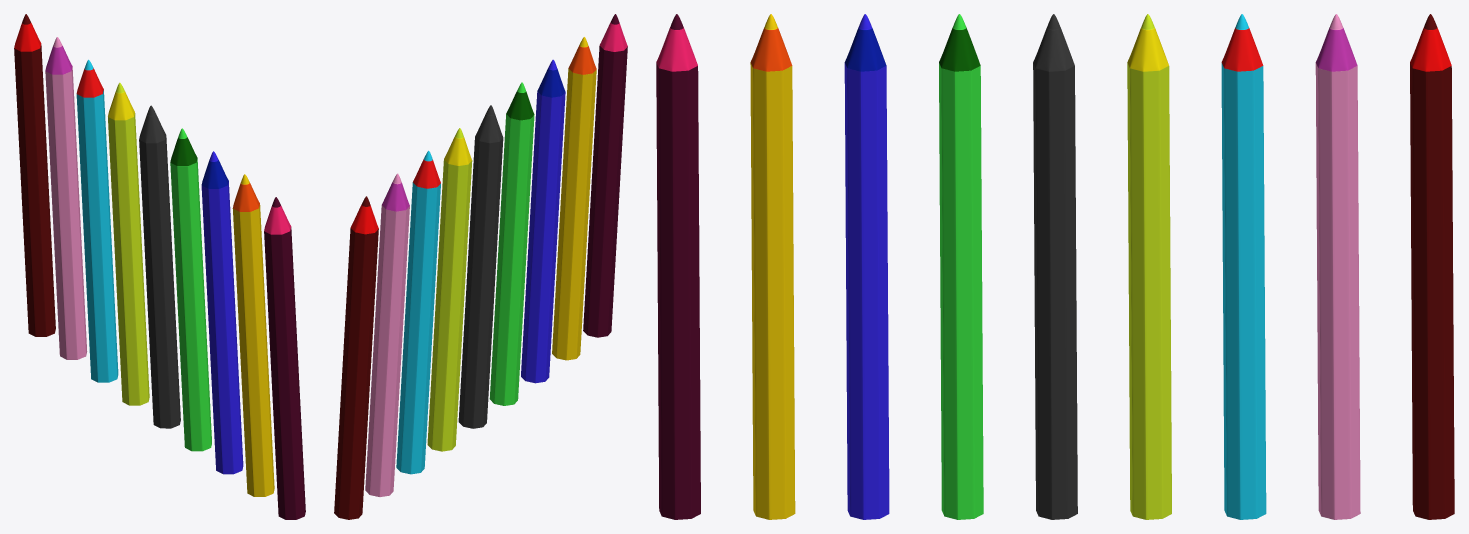
The model's file is lapices.FBX.
The picture shows the model from 3 angles, left to right: view 1: azimuth 30°, elevation 25°; view 2: azimuth 150°, elevation 25°; view 3: azimuth 270°, elevation 25°; orthographic projection. The views are drawn at different scales.
Parts seen in each view (by area): view 1: Pencil_red_013, Pencil_red_011, Pencil_red_019, Pencil_red_010, Pencil_red_008, Pencil_red_012, Pencil_red_014, Pencil_red_009, Pencil_red_015; view 2: Pencil_red_015, Pencil_red_011, Pencil_red_013, Pencil_red_019, Pencil_red_014, Pencil_red_009, Pencil_red_008, Pencil_red_010, Pencil_red_012; view 3: Pencil_red_012, Pencil_red_019, Pencil_red_008, Pencil_red_011, Pencil_red_013, Pencil_red_015, Pencil_red_010, Pencil_red_009, Pencil_red_014.
Part boxes in pixels (x1,y1,x2,y2): Pencil_red_013: (170,128,211,451); Pencil_red_011: (108,82,149,405); Pencil_red_019: (264,197,305,519); Pencil_red_010: (76,59,118,382); Pencil_red_008: (14,14,55,336); Pencil_red_012: (139,105,180,428); Pencil_red_014: (201,151,243,474); Pencil_red_009: (45,37,87,359); Pencil_red_015: (232,174,274,496); Pencil_red_015: (552,37,596,360); Pencil_red_011: (427,128,472,451); Pencil_red_013: (489,82,534,405); Pencil_red_019: (583,14,627,337); Pencil_red_014: (521,59,565,383); Pencil_red_009: (365,173,409,496); Pencil_red_008: (334,196,378,519); Pencil_red_010: (396,150,440,474); Pencil_red_012: (458,105,503,428); Pencil_red_012: (1033,14,1077,519); Pencil_red_019: (656,14,700,519); Pencil_red_008: (1410,14,1454,519); Pencil_red_011: (1127,14,1171,519); Pencil_red_013: (939,14,983,519); Pencil_red_015: (750,14,795,519); Pencil_red_010: (1221,14,1266,519); Pencil_red_009: (1315,14,1360,519); Pencil_red_014: (844,14,889,519).
Size of the model in its own units: 0.0257 by 0.2003 by 0.298.
